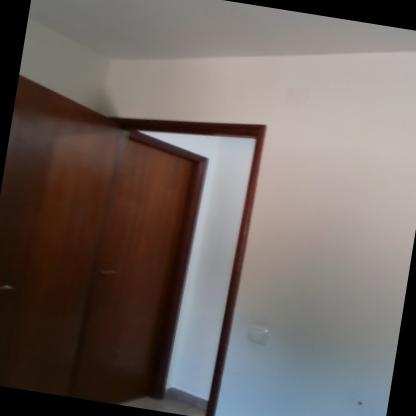open: (0, 71, 248, 415)
